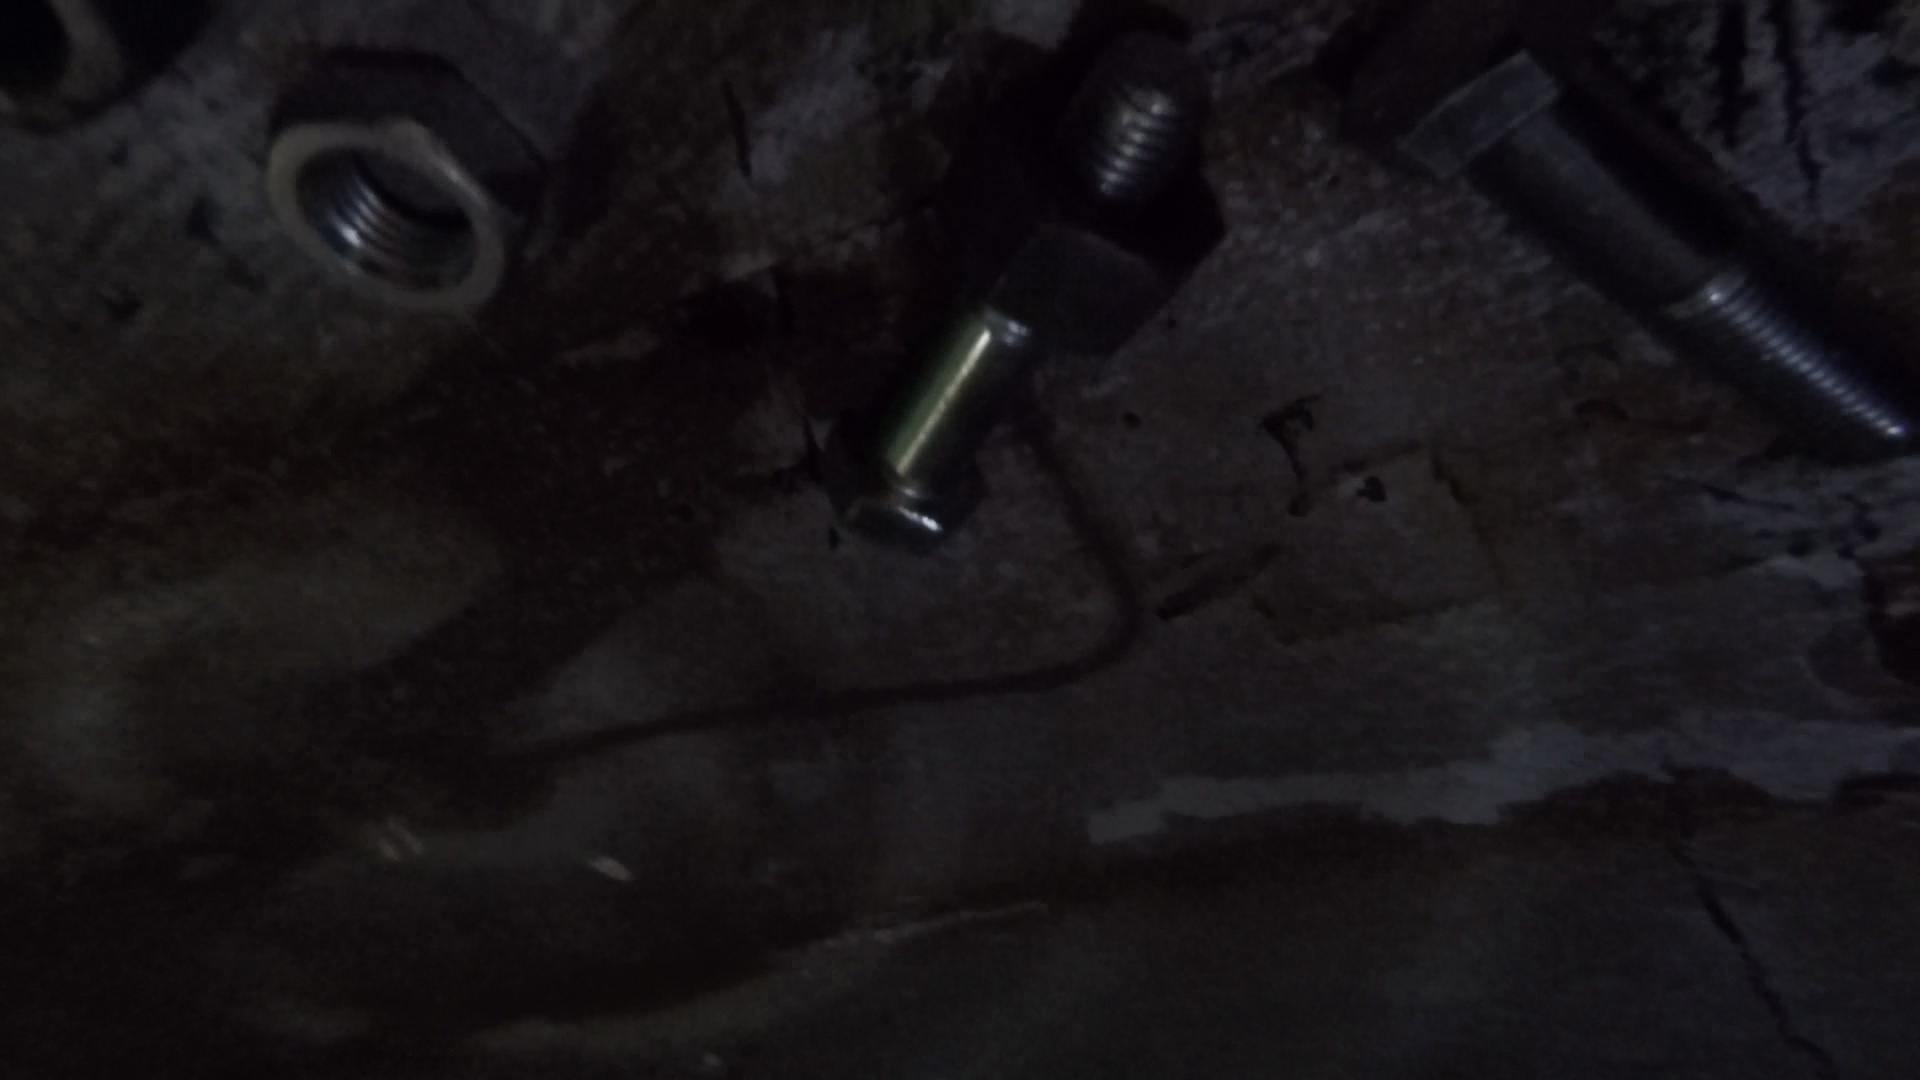bolt: (1340, 4, 1916, 472), (822, 25, 1218, 556)
nut: (931, 96, 1228, 359), (258, 55, 541, 320), (1, 4, 142, 138)
